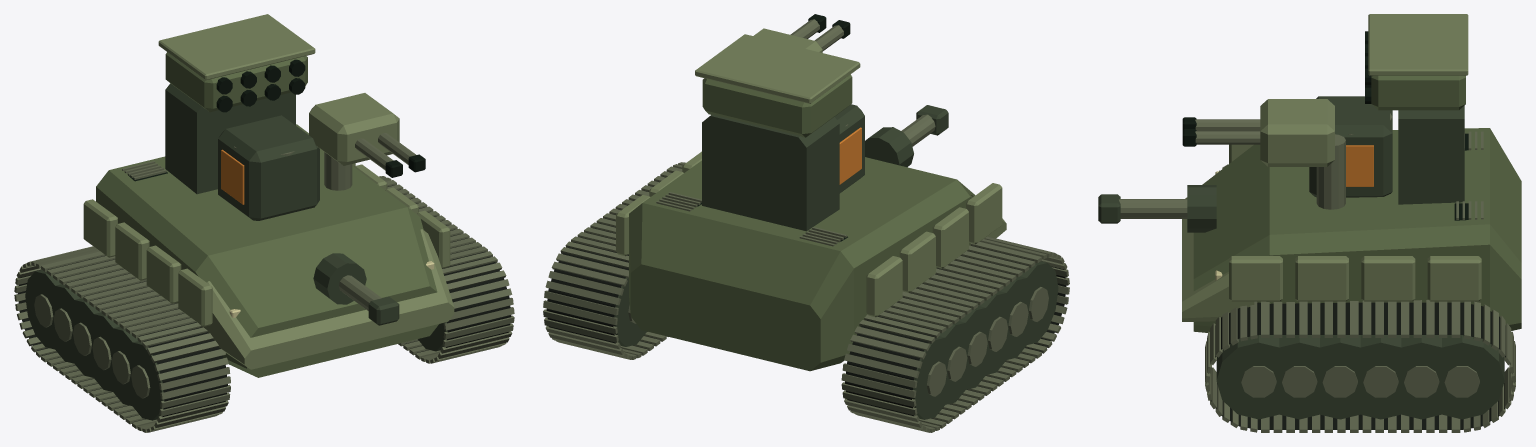
Rendered from boss.obj.
The picture shows the model from 3 angles, left to right: view 1: azimuth 30°, elevation 25°; view 2: azimuth 150°, elevation 25°; view 3: azimuth 270°, elevation 25°; orthographic projection. The views are drawn at different scales.
Parts seen in each view (by area): view 1: Body.008, Component_LeftDrive, Component_MissilePod, Component_Core, Component_RightDrive, Component_GunPod; view 2: Body.008, Component_LeftDrive, Component_MissilePod, Component_RightDrive, Component_Core, Component_GunPod; view 3: Body.008, Component_RightDrive, Component_MissilePod, Component_GunPod, Component_Core.
Part boxes in pixels (x1=…): Body.008: x1=83, y1=83, x2=454, y2=377; Component_LeftDrive: x1=14, y1=246, x2=230, y2=432; Component_MissilePod: x1=158, y1=14, x2=315, y2=112; Component_Core: x1=218, y1=115, x2=319, y2=220; Component_RightDrive: x1=379, y1=176, x2=514, y2=363; Component_GunPod: x1=309, y1=93, x2=425, y2=190; Body.008: x1=616, y1=105, x2=1006, y2=371; Component_LeftDrive: x1=841, y1=236, x2=1069, y2=432; Component_MissilePod: x1=695, y1=34, x2=860, y2=137; Component_RightDrive: x1=543, y1=162, x2=685, y2=359; Component_Core: x1=835, y1=104, x2=864, y2=193; Component_GunPod: x1=753, y1=14, x2=850, y2=52; Body.008: x1=1098, y1=105, x2=1521, y2=332; Component_RightDrive: x1=1205, y1=300, x2=1515, y2=432; Component_MissilePod: x1=1365, y1=14, x2=1468, y2=110; Component_GunPod: x1=1182, y1=99, x2=1345, y2=209; Component_Core: x1=1309, y1=96, x2=1392, y2=197.
Bounding box in the file's own units: 11.63 × 9.06 × 11.54.
1 material, 1 textured.
